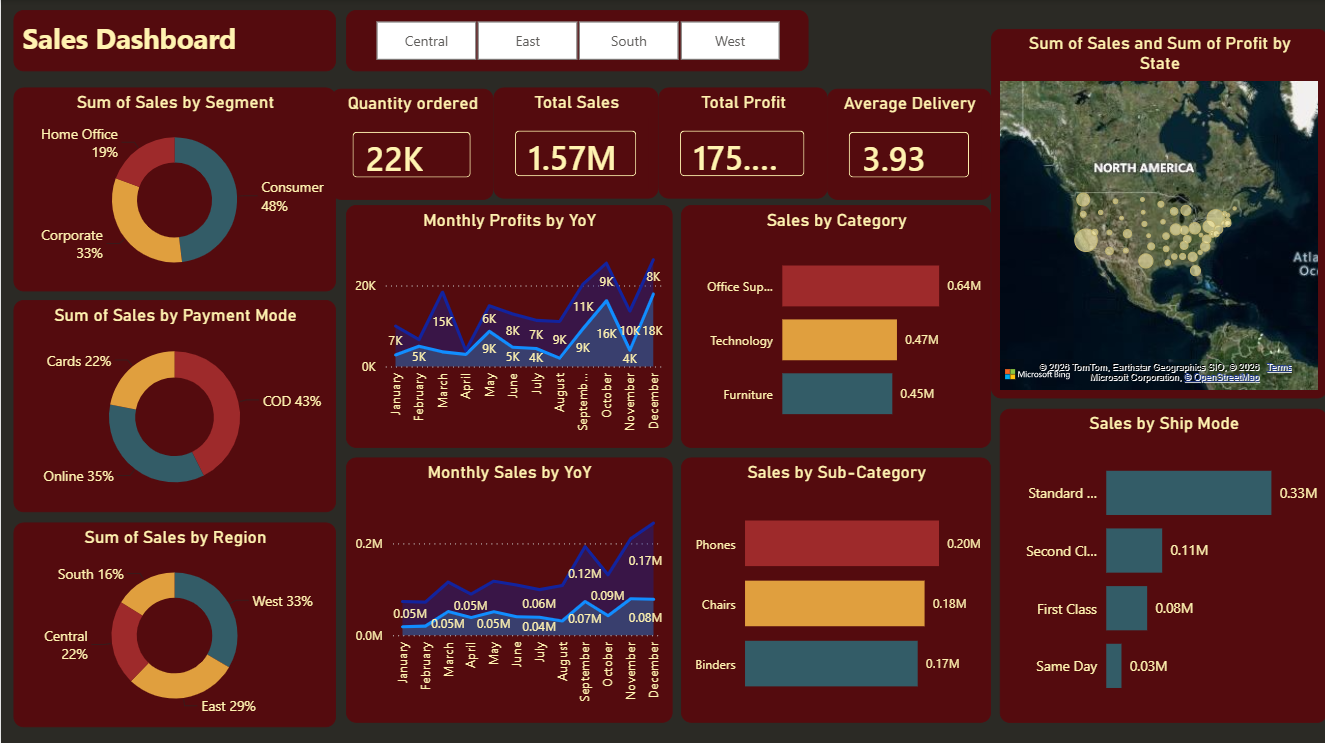

What the dashboard file says about the page in this screenshot:
{"tool":"powerbi","page":{"name":"Page 1","canvas":[1280,720],"ordinal":0},"visuals":[{"type":"clusteredBarChart","title":"Sales by Category","fields":{"Category":["SuperStore_Sales_Dataset.Category"],"Y":["Sum(SuperStore_Sales_Dataset.Sales)"]},"box":[656.3,197.9,299.2,234],"z":0},{"type":"clusteredBarChart","title":"Sales by Sub-Category","fields":{"Category":["SuperStore_Sales_Dataset.Sub-Category"],"Y":["Sum(SuperStore_Sales_Dataset.Sales)"]},"box":[656.3,441.6,299.2,255.8],"z":1000},{"type":"clusteredBarChart","title":"Sales by Ship Mode","fields":{"Category":["SuperStore_Sales_Dataset.Ship Mode"],"Y":["Sum(SuperStore_Sales_Dataset.Sales)"]},"box":[963.9,394.5,316.1,302.8],"z":2000},{"type":"stackedAreaChart","title":"Monthly Sales by YoY","fields":{"Y":["Sum(SuperStore_Sales_Dataset.Sales)"],"Category":["SuperStore_Sales_Dataset.Order Date.Variation.Date Hierarchy.Month","SuperStore_Sales_Dataset.Order Date.Variation.Date Hierarchy.Day"],"Series":["SuperStore_Sales_Dataset.Order Date.Variation.Date Hierarchy.Year"]},"box":[333,441.6,314.9,255.8],"z":3000},{"type":"stackedAreaChart","title":"Monthly Profits by YoY","fields":{"Category":["SuperStore_Sales_Dataset.Order Date.Variation.Date Hierarchy.Month","SuperStore_Sales_Dataset.Order Date.Variation.Date Hierarchy.Day"],"Series":["SuperStore_Sales_Dataset.Order Date.Variation.Date Hierarchy.Year"],"Y":["Sum(SuperStore_Sales_Dataset.Profit)"]},"box":[333,197.9,314.9,234],"z":4000},{"type":"map","fields":{"Category":["SuperStore_Sales_Dataset.State"],"Size":["Sum(SuperStore_Sales_Dataset.Sales)"]},"box":[955.5,27.7,324.5,357.1],"z":5000},{"type":"donutChart","fields":{"Category":["SuperStore_Sales_Dataset.Segment"],"Y":["Sum(SuperStore_Sales_Dataset.Sales)"]},"box":[12.1,84.5,311.3,196.6],"z":6000},{"type":"donutChart","fields":{"Category":["SuperStore_Sales_Dataset.Payment Mode"],"Y":["Sum(SuperStore_Sales_Dataset.Sales)"]},"box":[12.1,289.5,311.3,205.1],"z":7000},{"type":"slicer","fields":{"Values":["SuperStore_Sales_Dataset.Region"]},"box":[333,9.7,446.4,59.1],"z":8000},{"type":"cardVisual","title":"Total Sales","fields":{"Data":["Sum(SuperStore_Sales_Dataset.Sales)"]},"box":[475.3,84.5,159.3,107.4],"z":9000},{"type":"cardVisual","title":"Quantity ordered","fields":{"Data":["Sum(SuperStore_Sales_Dataset.Quantity)"]},"box":[318.5,85.7,156.8,107.4],"z":10000},{"type":"cardVisual","title":"Total Profit","fields":{"Data":["Sum(SuperStore_Sales_Dataset.Profit)"]},"box":[634.6,84.5,162.9,107.4],"z":11000},{"type":"cardVisual","title":"Average Delivery","fields":{"Data":["Avg(SuperStore_Sales_Dataset.Average Delivery)"]},"box":[797.5,85.7,158,107.4],"z":12000},{"type":"textbox","box":[12.1,9.7,311.3,59.1],"z":13000},{"type":"donutChart","fields":{"Category":["SuperStore_Sales_Dataset.Region"],"Y":["Sum(SuperStore_Sales_Dataset.Sales)"]},"box":[12.1,504.3,311.3,197.9],"z":14000}]}

Visuals, with their boxes in screenshot pixels (x1, y1, x2, y2), scaled from the page's 1280x720 canvas onto the 1325x743 screenshot:
"Sales by Category" clusteredBarChart: locate(679, 204, 989, 446)
"Sales by Sub-Category" clusteredBarChart: locate(679, 456, 989, 720)
"Sales by Ship Mode" clusteredBarChart: locate(998, 407, 1324, 720)
"Monthly Sales by YoY" stackedAreaChart: locate(345, 456, 671, 720)
"Monthly Profits by YoY" stackedAreaChart: locate(345, 204, 671, 446)
map - SuperStore_Sales_Dataset.State x Sum(SuperStore_Sales_Dataset.Sales): locate(989, 29, 1324, 397)
donutChart - SuperStore_Sales_Dataset.Segment x Sum(SuperStore_Sales_Dataset.Sales): locate(13, 87, 335, 290)
donutChart - SuperStore_Sales_Dataset.Payment Mode x Sum(SuperStore_Sales_Dataset.Sales): locate(13, 299, 335, 510)
slicer - SuperStore_Sales_Dataset.Region: locate(345, 10, 807, 71)
"Total Sales" cardVisual: locate(492, 87, 657, 198)
"Quantity ordered" cardVisual: locate(330, 88, 492, 199)
"Total Profit" cardVisual: locate(657, 87, 826, 198)
"Average Delivery" cardVisual: locate(826, 88, 989, 199)
textbox: locate(13, 10, 335, 71)
donutChart - SuperStore_Sales_Dataset.Region x Sum(SuperStore_Sales_Dataset.Sales): locate(13, 520, 335, 725)
